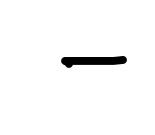minus: (61, 56, 127, 68)
